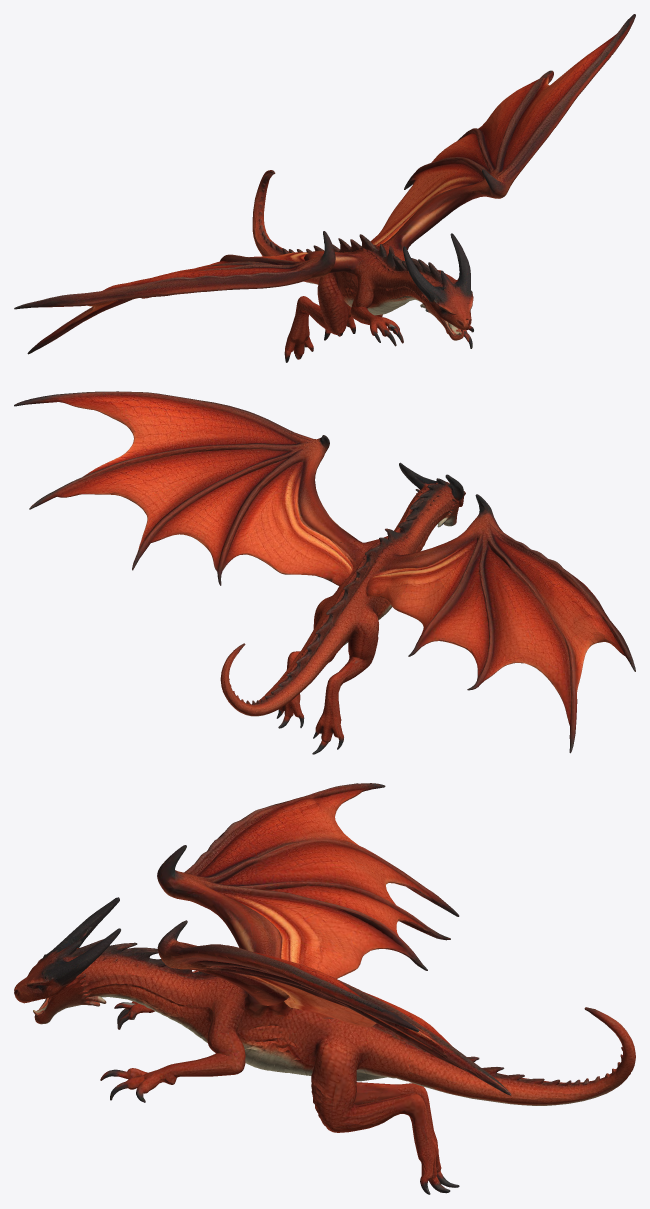
The model's file is dragon.glb.
3 views of the same model, one above another, from view 1: azimuth 30°, elevation 25°; view 2: azimuth 150°, elevation 25°; view 3: azimuth 270°, elevation 25° (orthographic). The views are drawn at different scales.
Size of the model in its own units: 3 by 1.26 by 1.86.
Materials: 1 (1 with a texture image).
